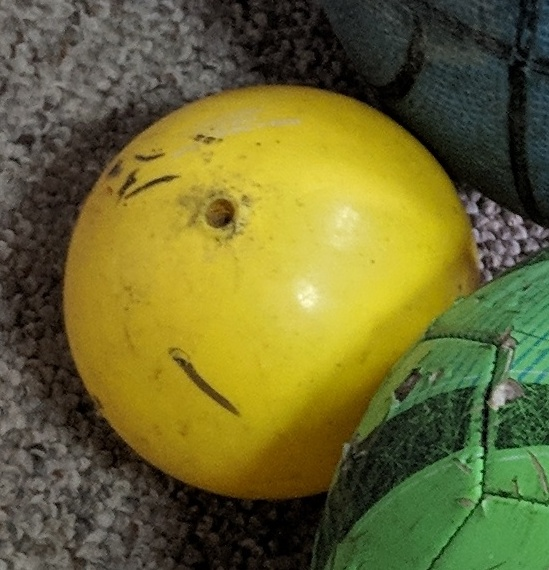ball: (62, 86, 495, 504)
